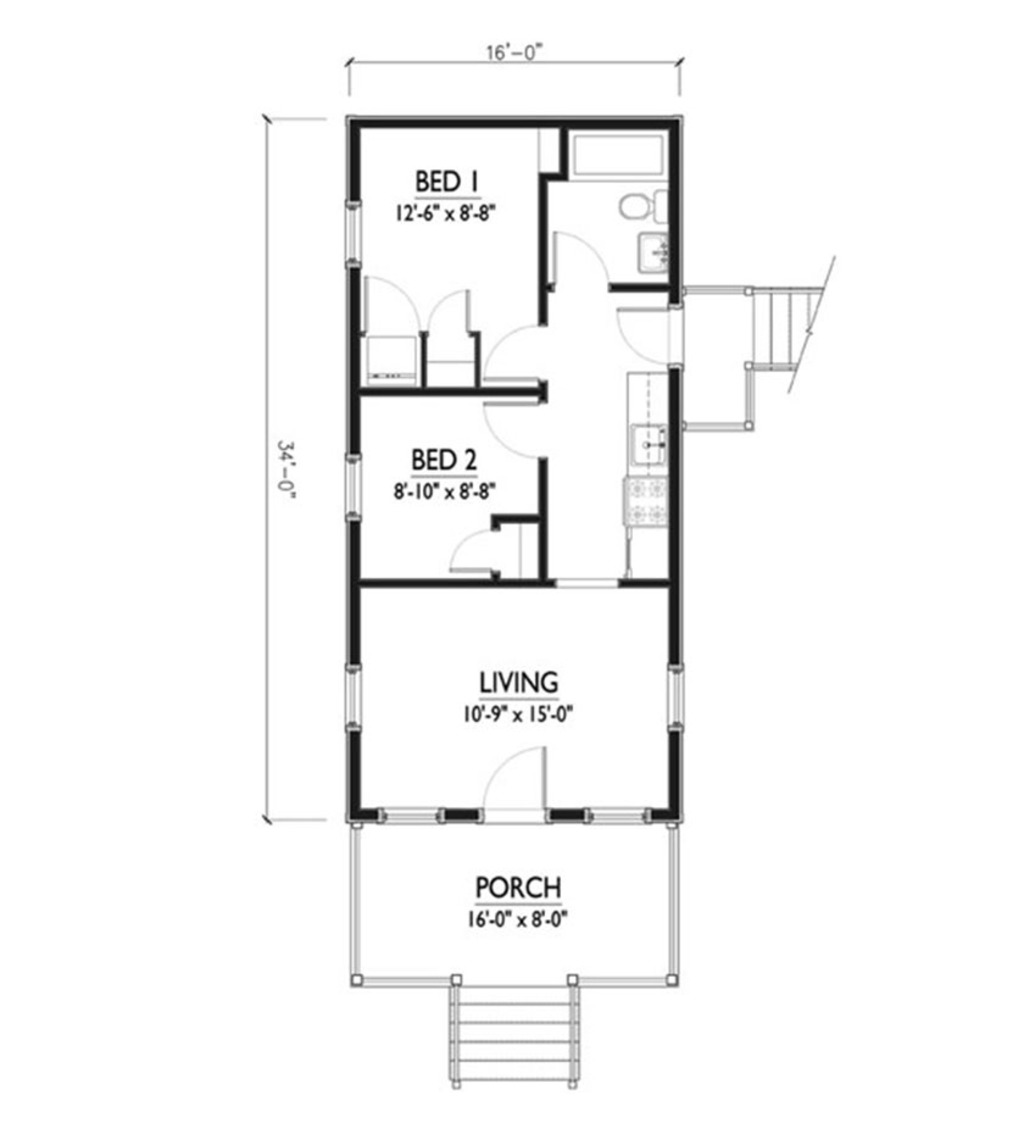door: (479, 738, 548, 829), (611, 299, 683, 365), (471, 397, 545, 461), (360, 271, 423, 341), (480, 320, 545, 384), (550, 228, 613, 289), (440, 523, 497, 576), (424, 283, 475, 341)
large_sink: (613, 184, 669, 228)
small_sink: (633, 231, 672, 276)
stairs: (677, 277, 824, 435), (445, 978, 582, 1087)
tub: (564, 126, 675, 183)
windows: (342, 447, 366, 524), (341, 195, 366, 266), (371, 805, 445, 828), (345, 658, 369, 728), (664, 661, 687, 734), (582, 803, 653, 824)
